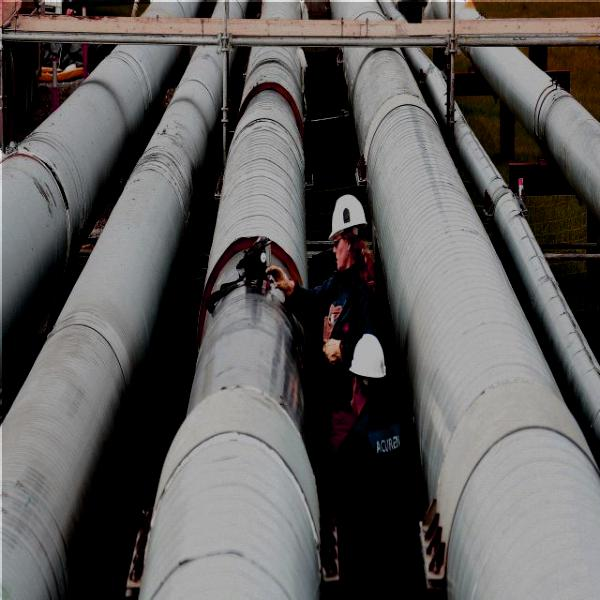no leak: (2, 2, 600, 600)
